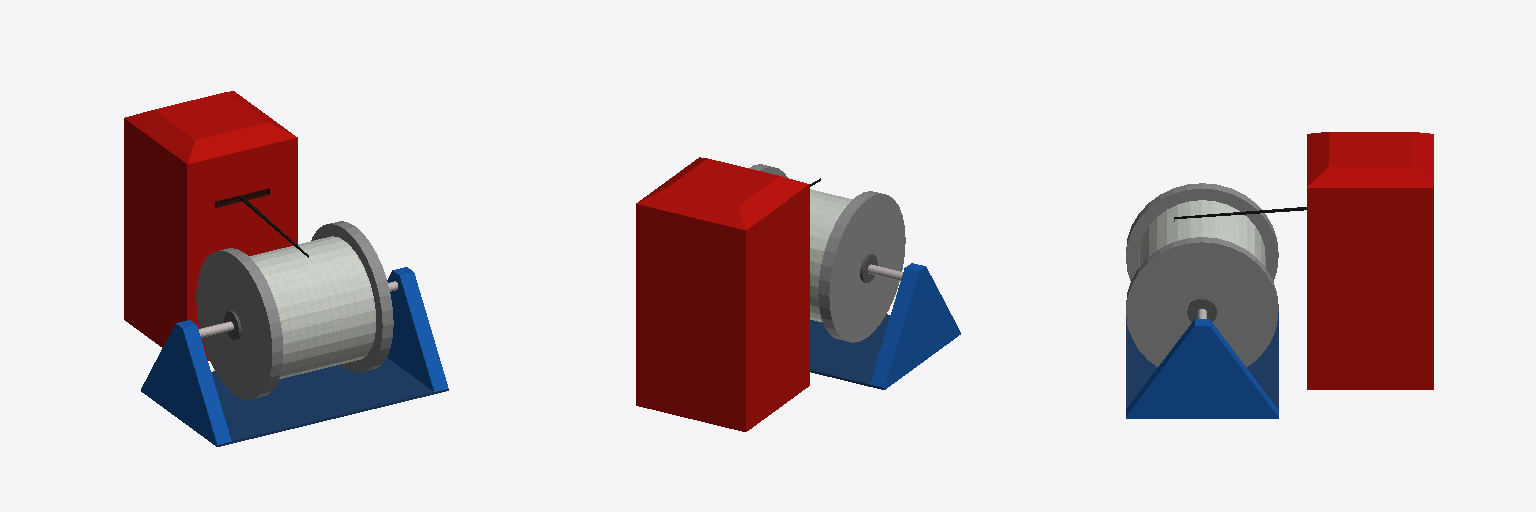
3 views of the same model, side by side, from view 1: azimuth 30°, elevation 25°; view 2: azimuth 150°, elevation 25°; view 3: azimuth 270°, elevation 25° (orthographic).
Visible parts, largest first — view 1: seismograph; view 2: seismograph; view 3: seismograph.
Boxes of the visible parts, box(x1,y1,x2,y2) form: seismograph: box(124, 91, 448, 446); seismograph: box(636, 157, 960, 431); seismograph: box(1126, 132, 1433, 418).
Bounding box in the file's own units: 1.05 × 0.925 × 1.21.
Materials: 1 (1 with a texture image).